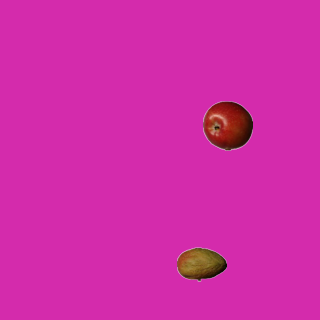Apple Braeburn: (202, 100, 252, 150)
Papaya: (176, 239, 226, 289)
